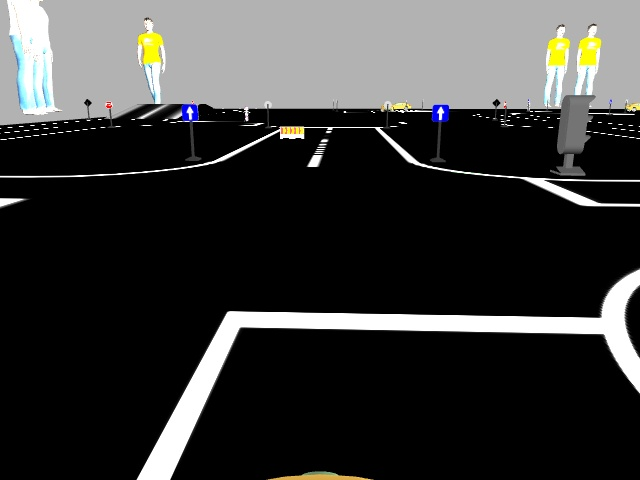ClosedRoadStand: (280, 126, 304, 138)
OneWay: (183, 105, 197, 120), (434, 105, 447, 120)
